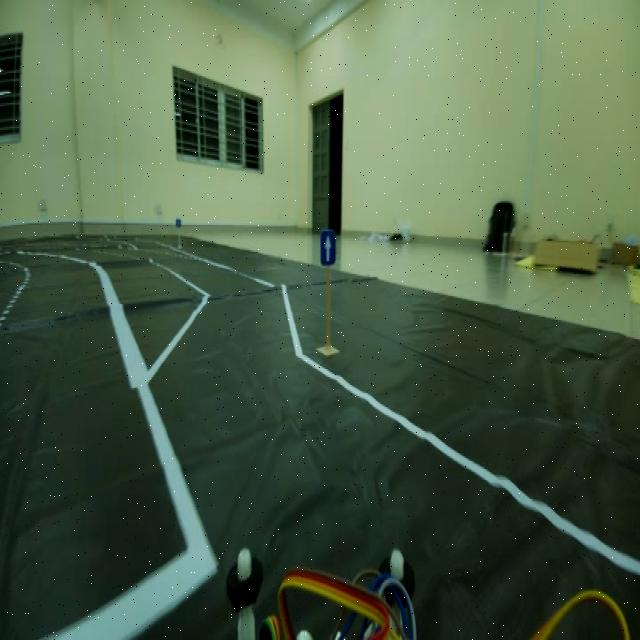onewayroad: (319, 227, 339, 267)
